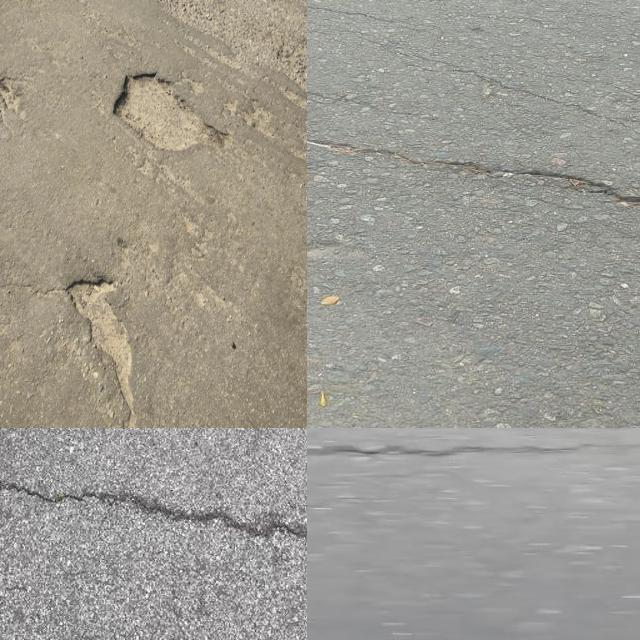Lubang: (61, 280, 136, 421), (112, 78, 215, 154)
Melintang: (307, 128, 640, 224), (0, 455, 307, 555), (307, 433, 597, 470)
